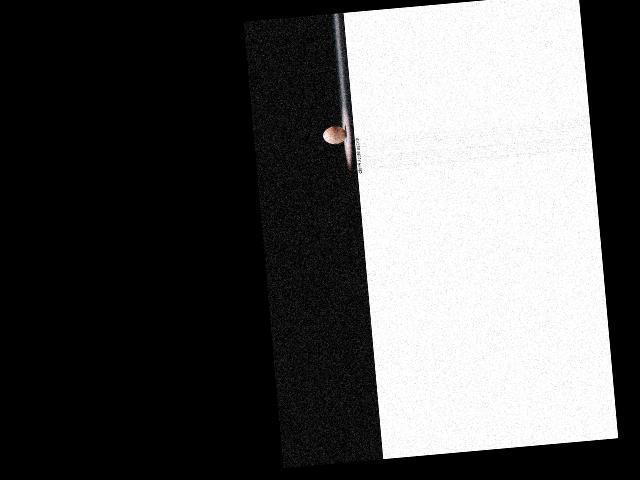egg: (322, 125, 347, 145)
